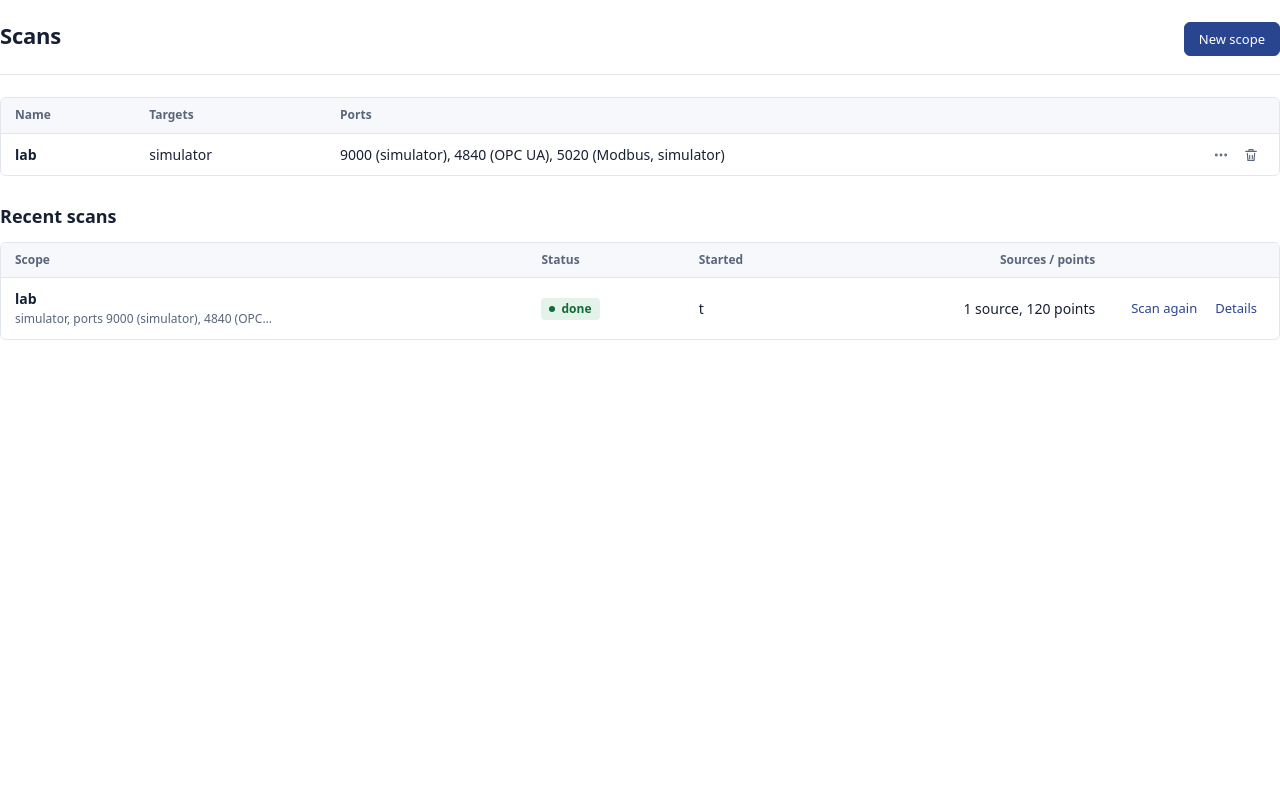
ScansPage › asks for confirmation with the host and port counts, then starts the scan with that count
This screenshot has width=1280, height=800.
Click the button named "Actions for lab". click: (1221, 155)
box: [1207,141,1235,169]
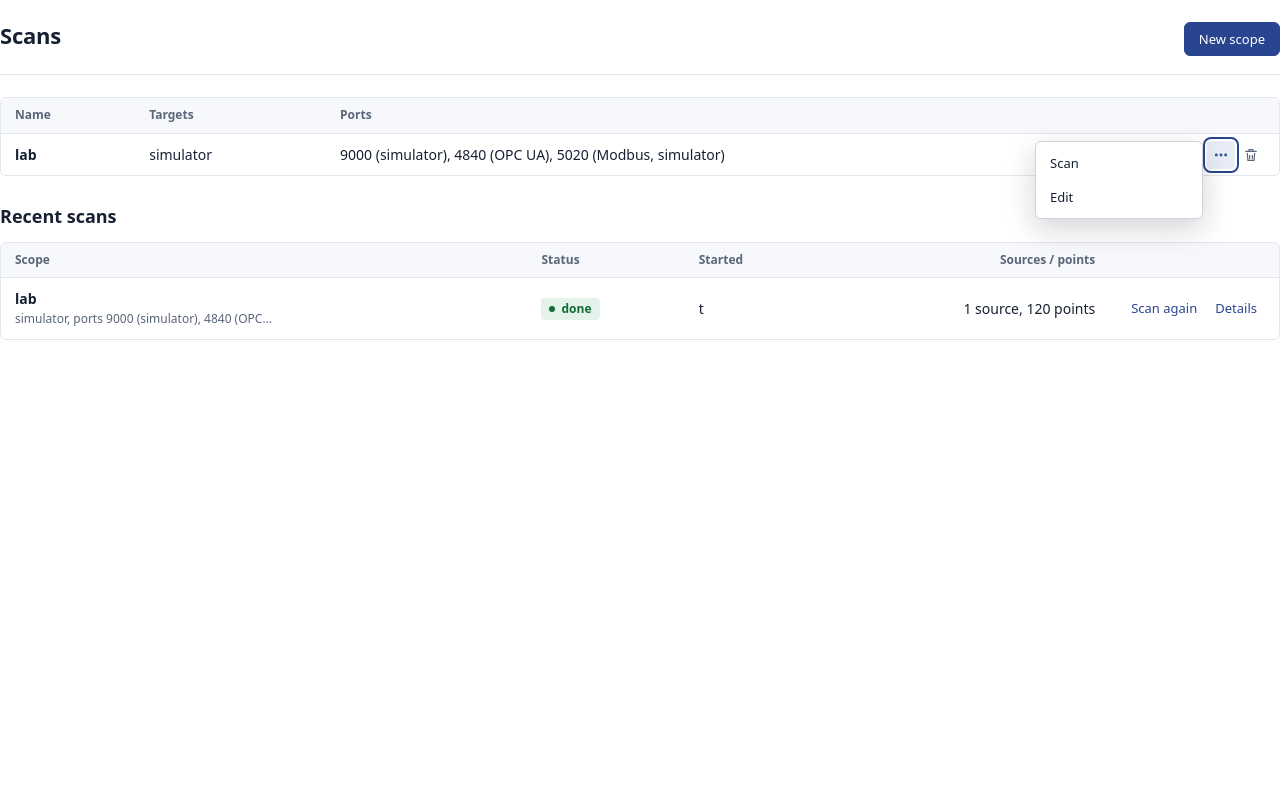
Click the menu item "Scan". click: (1119, 163)
box: [1040,146,1198,180]
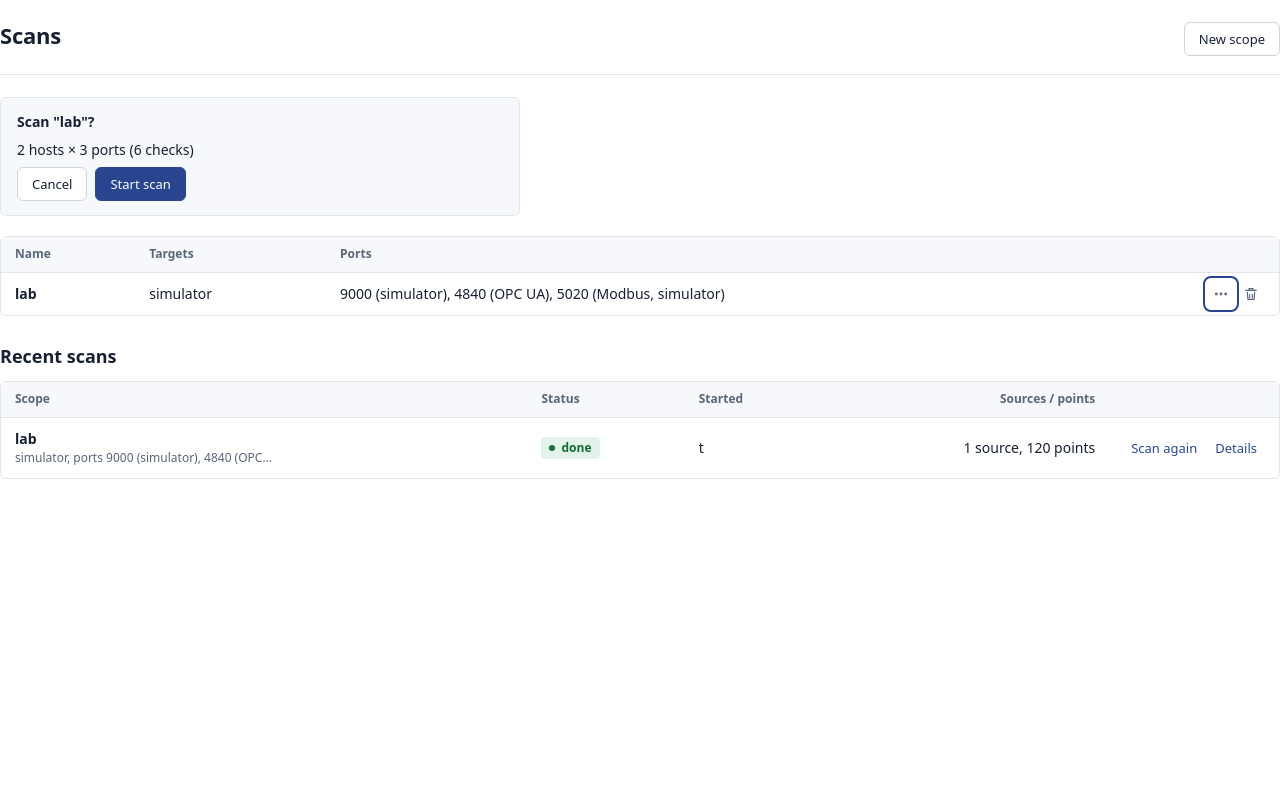
Result: the text "2 hosts × 3 ports (6 checks)" is shown at [17,140,194,159]
Click the button "Start scan". click: (141, 184)
box: [96,167,186,201]
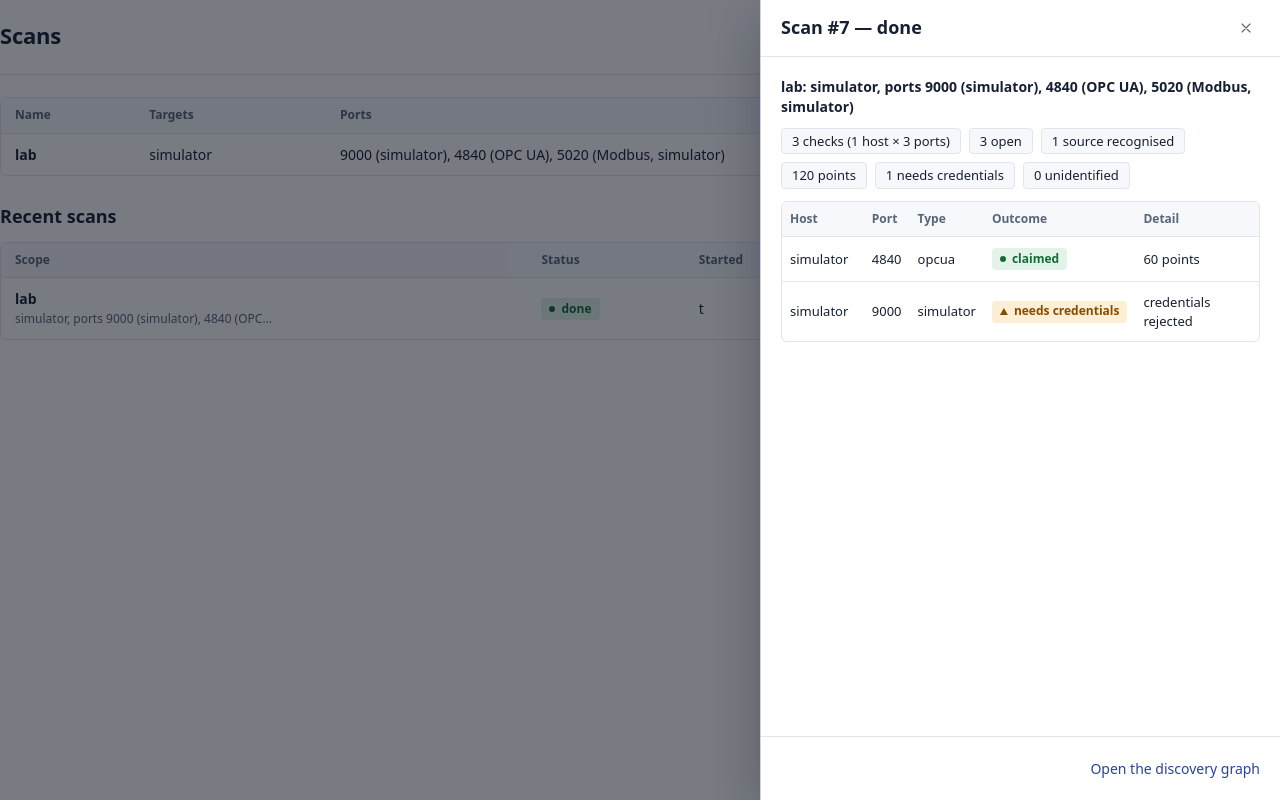
Result: the heading named "running" is shown at [781,15,922,41]
Result: the text "needs credentials" is shown at [992,300,1127,322]
